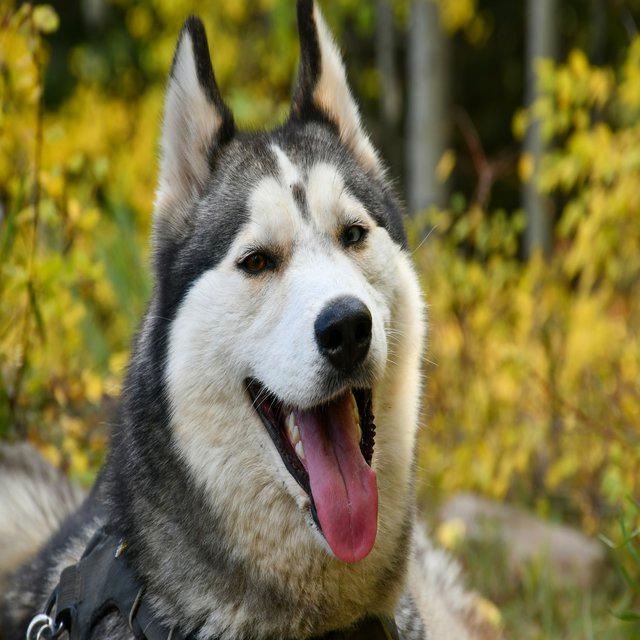husky: (2, 0, 505, 639)
